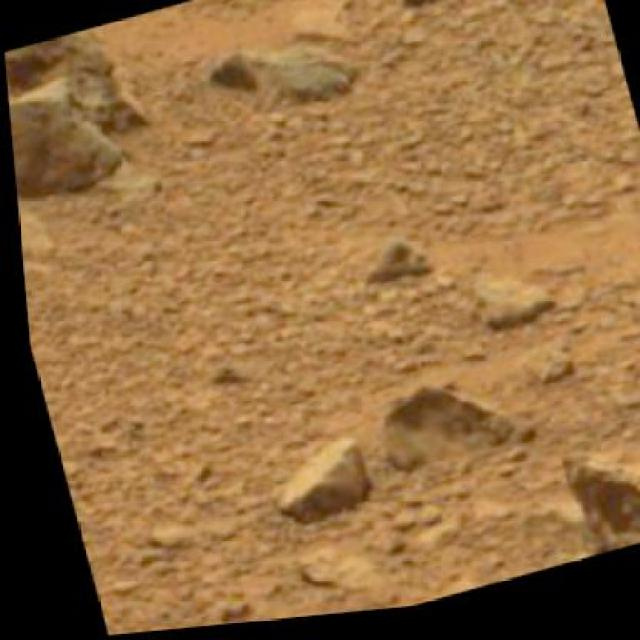rock: (5, 63, 136, 211), (552, 431, 638, 566), (253, 436, 372, 530), (532, 522, 638, 576), (390, 0, 524, 22), (637, 271, 638, 537)
